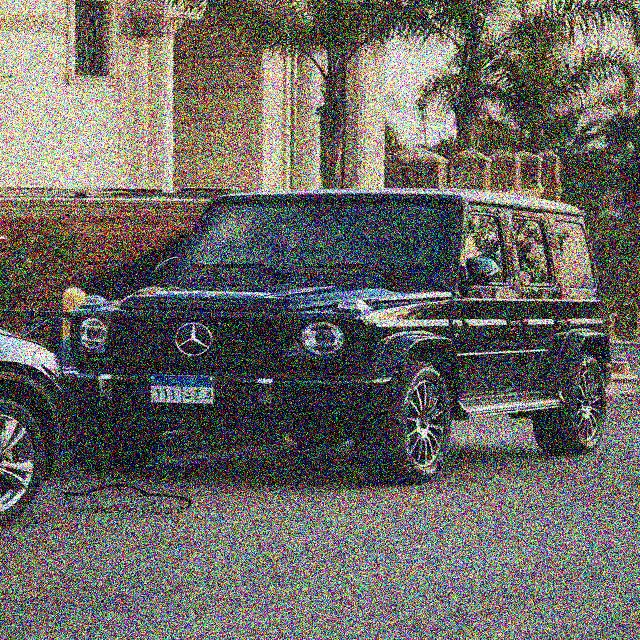License Plate: (147, 371, 217, 407)
